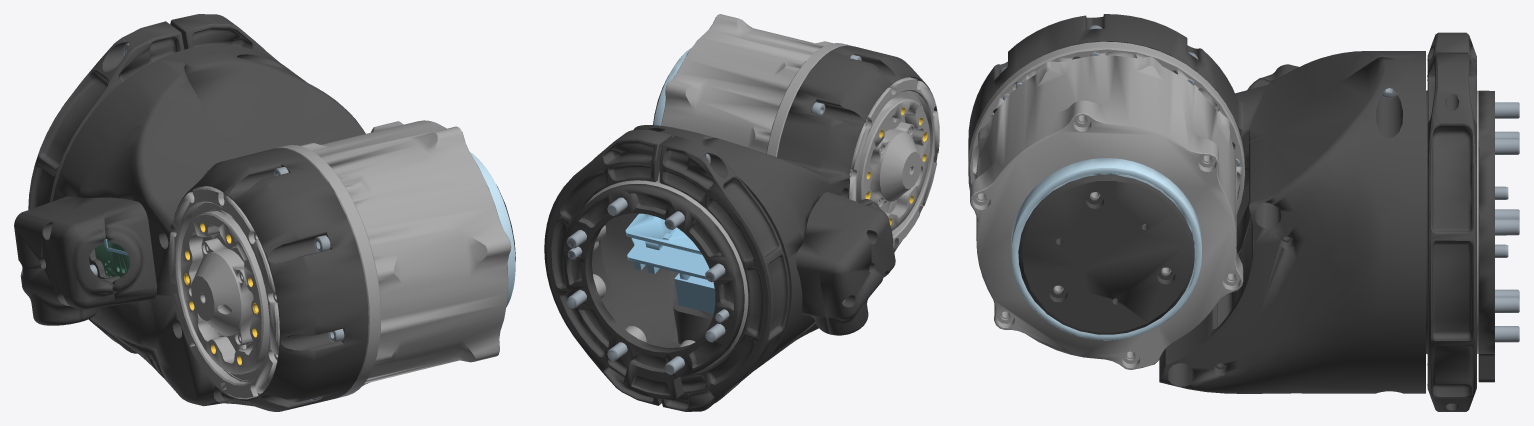
Rendered from l_shoulder_y_purdue.obj.
3 views of the same model, side by side, from view 1: azimuth 30°, elevation 25°; view 2: azimuth 150°, elevation 25°; view 3: azimuth 270°, elevation 25° (orthographic). The views are drawn at different scales.
Visible parts, largest first — view 1: l_shoulder_y_purdue; view 2: l_shoulder_y_purdue; view 3: l_shoulder_y_purdue.
Part boxes in pixels (x1,y1,x2,y2): l_shoulder_y_purdue: [14, 14, 515, 411]; l_shoulder_y_purdue: [544, 14, 939, 411]; l_shoulder_y_purdue: [968, 14, 1519, 411].
Bounding box in the file's own units: 0.1243 × 0.1139 × 0.1674.
